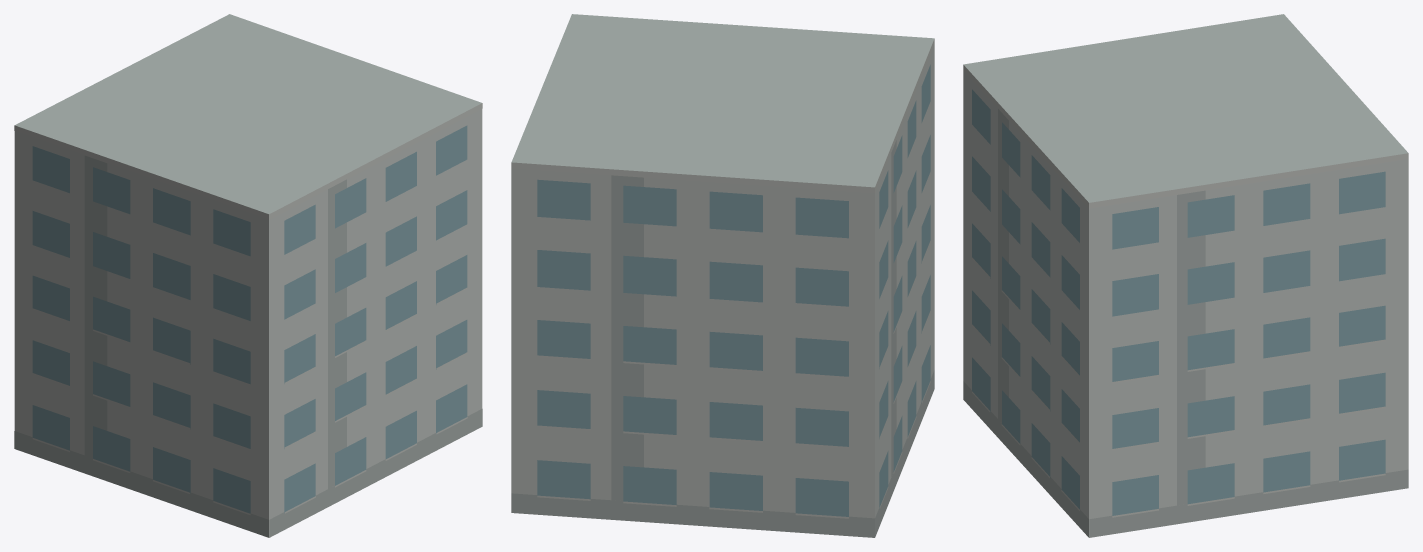
File: survey-upis-32863989.glb
The picture shows the model from 3 angles, left to right: view 1: azimuth 30°, elevation 25°; view 2: azimuth 150°, elevation 25°; view 3: azimuth 270°, elevation 25°; orthographic projection. The views are drawn at different scales.
Visible parts, largest first — view 1: survey-upis-32863989.tmp; view 2: survey-upis-32863989.tmp; view 3: survey-upis-32863989.tmp.
Part boxes in pixels (box(x1,y1,x2,y2)): survey-upis-32863989.tmp: box(14, 14, 482, 537); survey-upis-32863989.tmp: box(511, 14, 934, 537); survey-upis-32863989.tmp: box(963, 14, 1408, 537).
Bounding box in the file's own units: 17.06 × 14.1 × 17.
